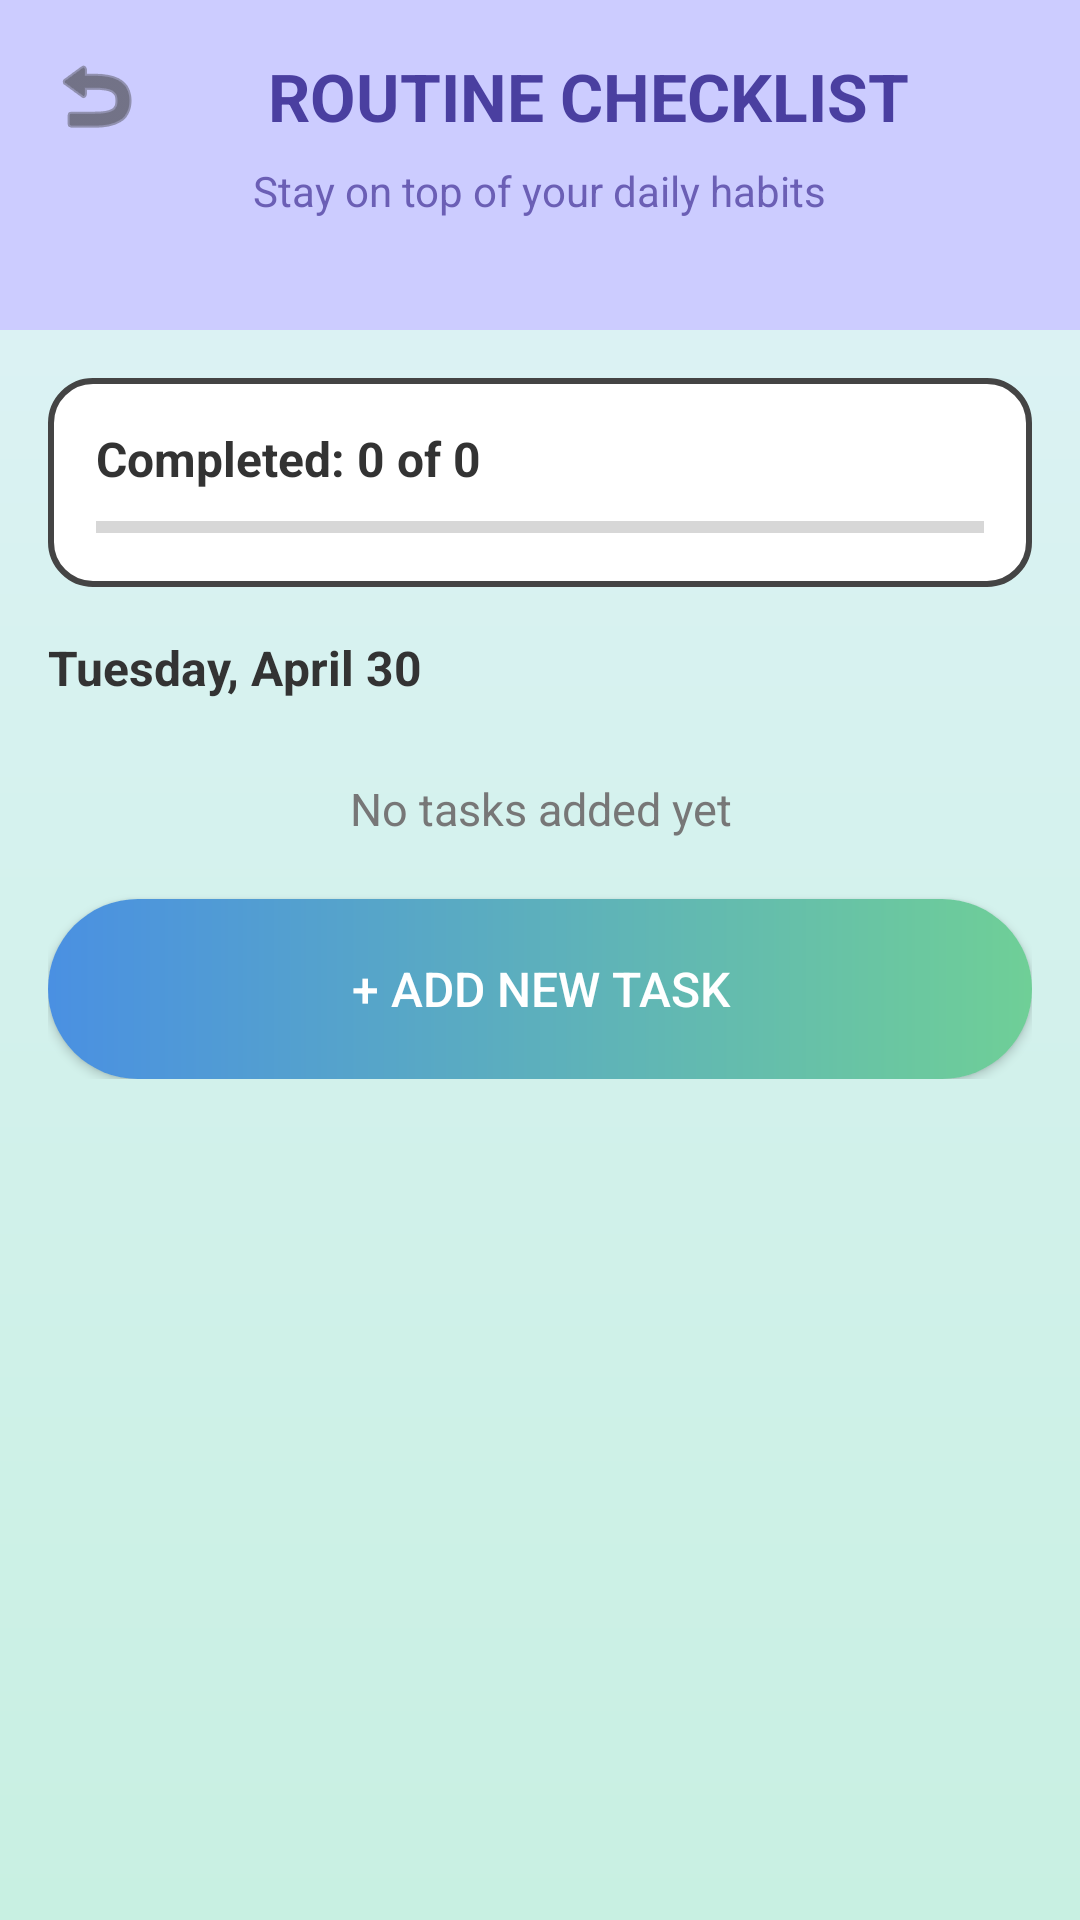

Screen size 1080 × 1920. Icon name, then its center in pixels as point (x, y):
revert: point (97, 96)
